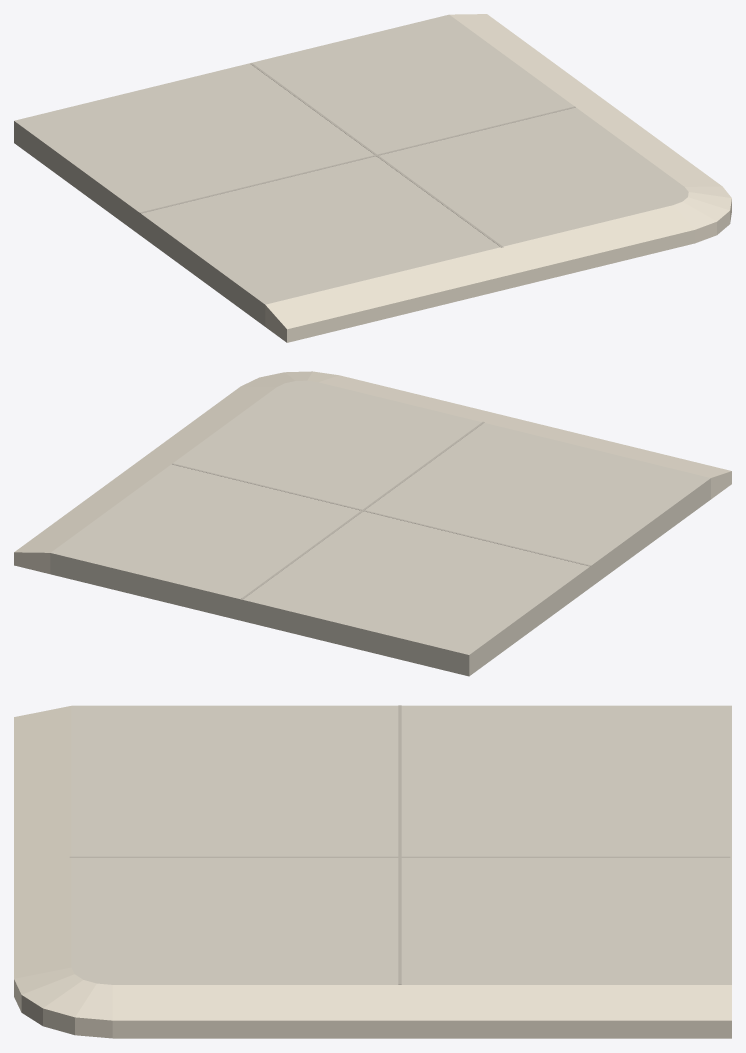
Rendered from sidewalk_corner.glb.
The picture shows the model from 3 angles, top to bottom: view 1: azimuth 30°, elevation 25°; view 2: azimuth 150°, elevation 25°; view 3: azimuth 270°, elevation 25°; orthographic projection. The views are drawn at different scales.
Visible parts, largest first — view 1: ModelMesh; view 2: ModelMesh; view 3: ModelMesh.
Boxes of the visible parts, left/top/right/bottom form: ModelMesh: left=14, top=14, right=731, bottom=342; ModelMesh: left=14, top=371, right=731, bottom=676; ModelMesh: left=14, top=705, right=731, bottom=1038.
Size of the model in its own units: 4 by 0.1817 by 4.
